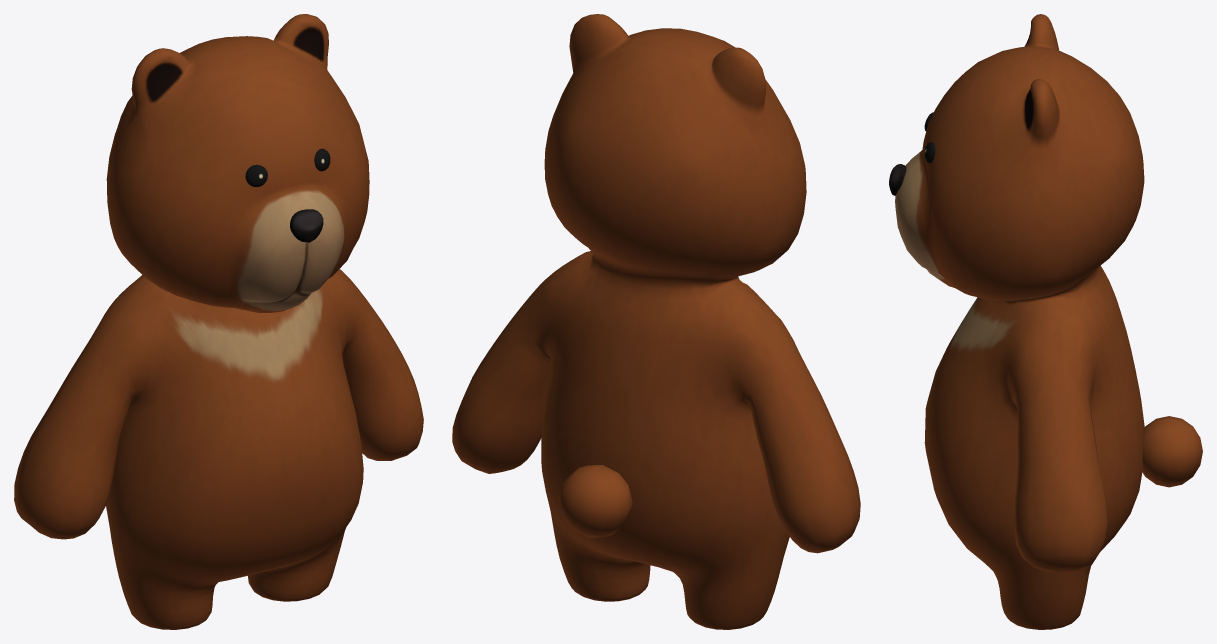
Rendered from BearLumber.fbx.
3 views of the same model, side by side, from view 1: azimuth 30°, elevation 25°; view 2: azimuth 150°, elevation 25°; view 3: azimuth 270°, elevation 25° (orthographic). The views are drawn at different scales.
Parts seen in each view (by area): view 1: Bear_Body; view 2: Bear_Body, Bear_Tail; view 3: Bear_Body, Bear_Tail.
Boxes of the visible parts, x1,y1,x2,y2 form: Bear_Body: (14,14,423,629); Bear_Body: (452,14,860,629); Bear_Tail: (559,465,632,537); Bear_Body: (889,14,1144,629); Bear_Tail: (1142,416,1202,487).
Bounding box in the file's own units: 275 × 380 × 200.
Materials: 1 (1 with a texture image).
